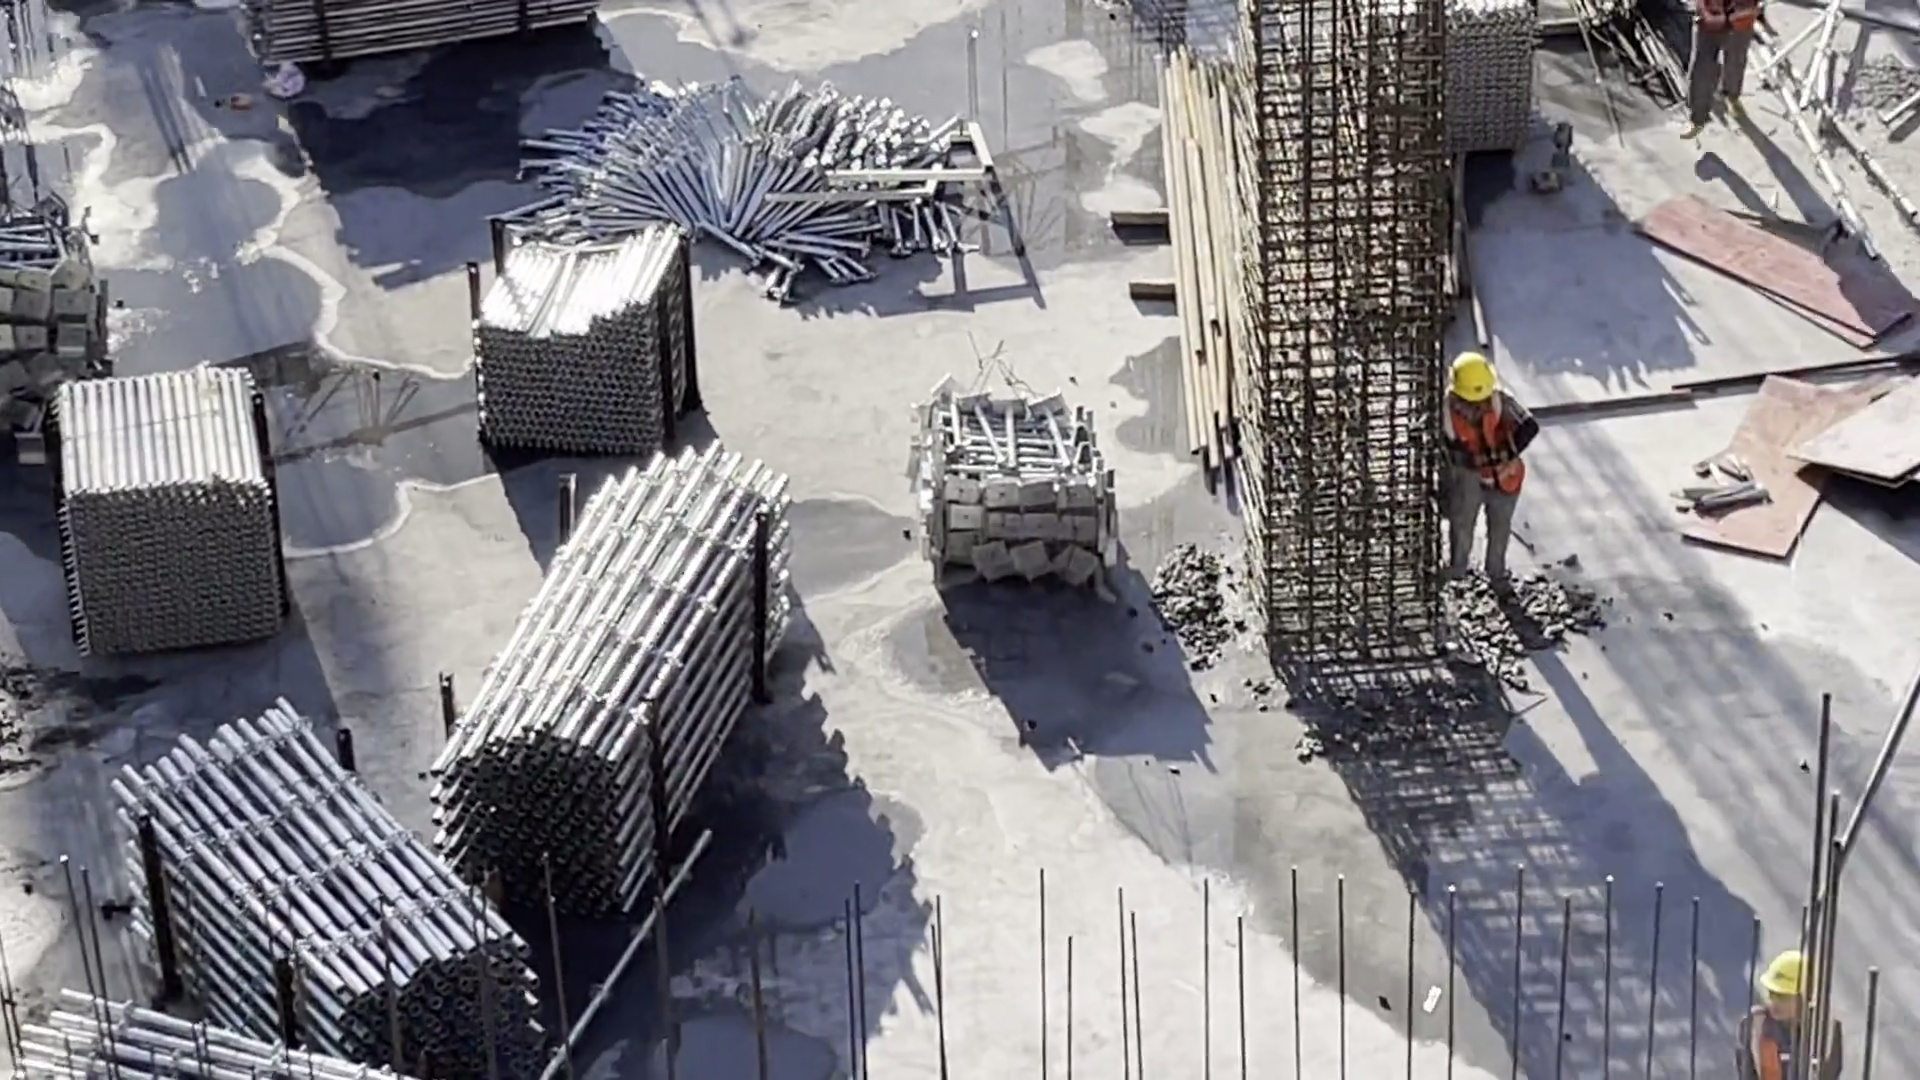board: (1783, 362, 1920, 480)
helmet: (1763, 946, 1819, 997), (1447, 350, 1497, 402)
person: (1438, 349, 1534, 591), (1743, 928, 1843, 1078), (1681, 1, 1763, 130)
scaffold: (456, 430, 800, 918), (115, 705, 529, 1080), (524, 69, 966, 275), (458, 208, 723, 460), (73, 345, 276, 660), (896, 374, 1121, 611), (16, 978, 424, 1080), (247, 1, 583, 94), (1365, 1, 1537, 165), (1, 199, 109, 453)
vest: (1757, 1001, 1837, 1080), (1452, 403, 1522, 491), (1702, 1, 1762, 45)
